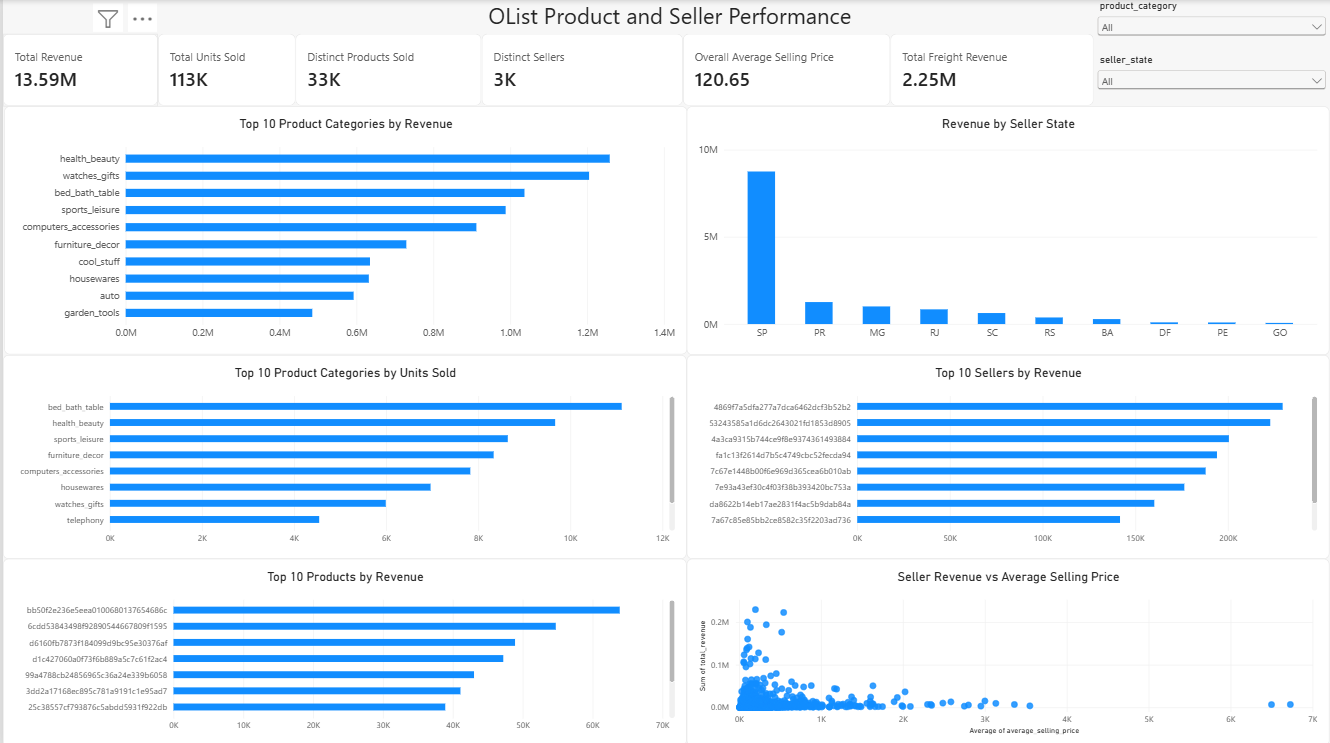

This screenshot's page, from the dashboard's own definition file:
{"tool":"powerbi","page":{"name":"Product & Seller Performance","canvas":[1920,1080],"ordinal":2},"visuals":[{"type":"textbox","box":[10.9,0,1909.2,48.9],"z":0},{"type":"cardVisual","fields":{"Data":["ecommerce order_item_fact.Total Revenue"]},"box":[0,48.9,224.4,105],"z":1000},{"type":"cardVisual","fields":{"Data":["ecommerce product_level.Total Units Sold"]},"box":[224.4,48.9,199.1,105],"z":2000},{"type":"cardVisual","fields":{"Data":["ecommerce product_level.Distinct Products Sold"]},"box":[423.5,48.9,269.6,105],"z":3000},{"type":"cardVisual","fields":{"Data":["ecommerce seller_level.Distinct Sellers"]},"box":[693.1,48.9,291.4,105],"z":4000},{"type":"cardVisual","fields":{"Data":["ecommerce order_item_fact.Total Freight Revenue"]},"box":[1284.9,48.9,295,105],"z":5000},{"type":"cardVisual","fields":{"Data":["ecommerce order_item_fact.Overall Average Selling Price"]},"box":[984.5,48.9,300.4,105],"z":6000},{"type":"barChart","title":"Top 10 Product Categories by Revenue","fields":{"Category":["ecommerce product_level.product_category"],"Y":["Sum(ecommerce product_level.total_revenue)"]},"box":[1.8,153.8,988.4,359.4],"z":7000},{"type":"barChart","title":"Top 10 Product Categories by Units Sold","fields":{"Category":["ecommerce product_level.product_category"],"Y":["ecommerce product_level.Total Units Sold"]},"box":[0,513.9,989.9,295],"z":8000},{"type":"barChart","title":"Top 10 Products by Revenue","fields":{"Category":["ecommerce product_level.product_id"],"Y":["Sum(ecommerce product_level.total_revenue)"]},"box":[0,808.9,989.9,271.4],"z":9000},{"type":"columnChart","title":"Revenue by Seller State","fields":{"Category":["ecommerce seller_level.seller_state"],"Y":["Sum(ecommerce seller_level.total_revenue)"]},"box":[989.9,153.8,930.2,360.1],"z":10000},{"type":"barChart","title":"Top 10 Sellers by Revenue","fields":{"Category":["ecommerce seller_level.seller_id"],"Y":["Sum(ecommerce seller_level.total_revenue)"]},"box":[989.9,513.9,930.2,295],"z":11000},{"type":"scatterChart","title":"Seller Revenue vs Average Selling Price","fields":{"Category":["ecommerce seller_level.seller_id"],"X":["ecommerce seller_level.average_selling_price"],"Y":["ecommerce seller_level.total_revenue"]},"box":[989.9,808.9,930.2,271.4],"z":12000},{"type":"slicer","fields":{"Values":["ecommerce product_level.product_category"]},"box":[1579.8,0,340.2,77.8],"z":13000},{"type":"slicer","fields":{"Values":["ecommerce seller_level.seller_state"]},"box":[1579.8,77.8,340.2,76],"z":14000}]}

Visuals, with their boxes on the page's 1920x1080 design canvas (x1, y1, x2, y2). These are canvas units, not pixel positions in the 1330x743 screenshot, which may show the page scaled, cropped or inside an application window:
textbox: 11/0/1920/49
cardVisual - ecommerce order_item_fact.Total Revenue: 0/49/224/154
cardVisual - ecommerce product_level.Total Units Sold: 224/49/424/154
cardVisual - ecommerce product_level.Distinct Products Sold: 424/49/693/154
cardVisual - ecommerce seller_level.Distinct Sellers: 693/49/984/154
cardVisual - ecommerce order_item_fact.Total Freight Revenue: 1285/49/1580/154
cardVisual - ecommerce order_item_fact.Overall Average Selling Price: 984/49/1285/154
"Top 10 Product Categories by Revenue" barChart: 2/154/990/513
"Top 10 Product Categories by Units Sold" barChart: 0/514/990/809
"Top 10 Products by Revenue" barChart: 0/809/990/1080
"Revenue by Seller State" columnChart: 990/154/1920/514
"Top 10 Sellers by Revenue" barChart: 990/514/1920/809
"Seller Revenue vs Average Selling Price" scatterChart: 990/809/1920/1080
slicer - ecommerce product_level.product_category: 1580/0/1920/78
slicer - ecommerce seller_level.seller_state: 1580/78/1920/154
